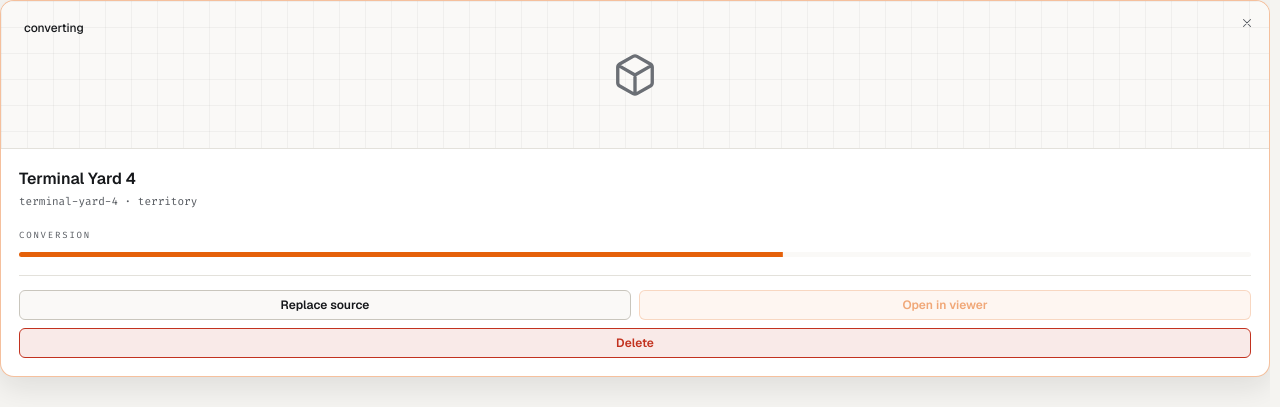
it: ContentInspector · keyboard › names its Close button the moment a keyboard focus lands on it
Press Tab in the button named "Close", box [1235, 11, 1259, 35]
Focus the button named "Close". click: [1247, 23]
box: [1235, 11, 1259, 35]
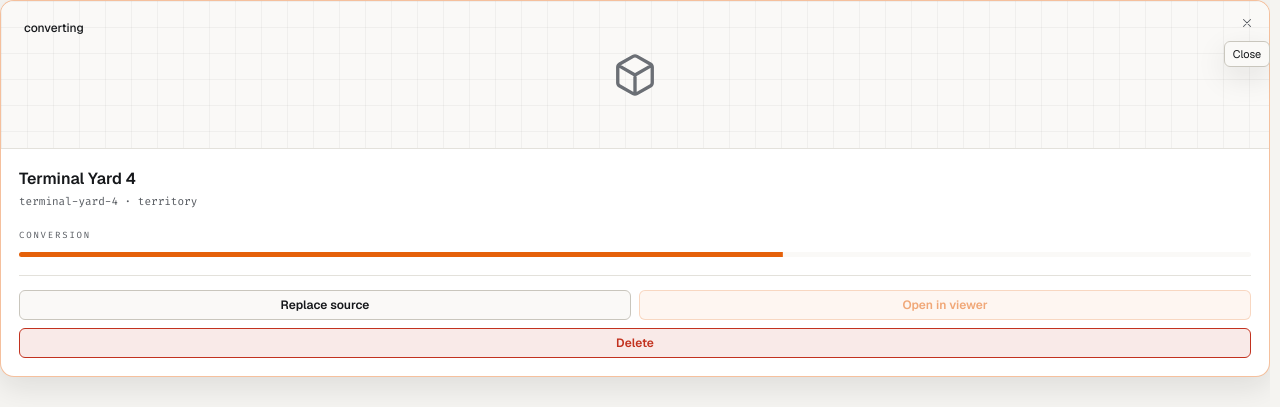
Expected: the tooltip reads "Close", [1233, 47, 1261, 61]
